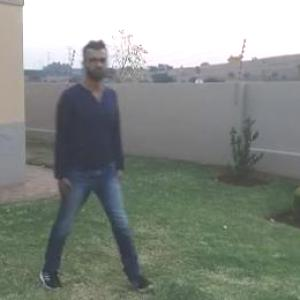follow: (51, 46, 120, 250)
